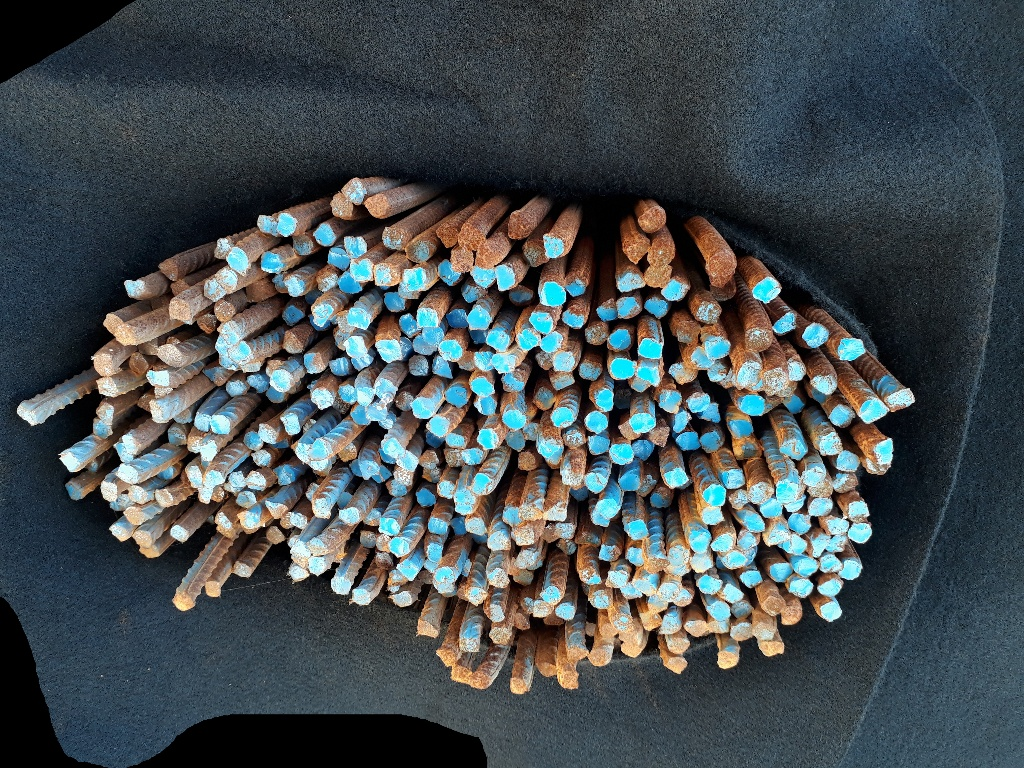dipstick: (764, 367, 794, 397), (736, 361, 766, 391), (708, 258, 736, 288), (751, 276, 782, 303), (647, 237, 674, 267), (639, 206, 667, 234), (458, 223, 485, 252), (624, 234, 650, 264), (858, 400, 891, 423), (731, 437, 764, 460), (802, 322, 830, 349), (780, 438, 809, 464), (329, 191, 354, 221), (508, 210, 533, 240), (886, 388, 916, 413), (374, 338, 404, 363), (616, 269, 647, 293), (635, 358, 662, 385), (523, 239, 549, 267), (764, 518, 789, 547), (668, 360, 698, 384), (645, 263, 673, 288), (217, 321, 246, 345), (373, 264, 400, 289), (437, 337, 464, 362), (340, 177, 364, 205), (539, 281, 567, 305), (431, 567, 459, 591), (155, 343, 183, 367), (738, 394, 767, 417), (826, 404, 855, 427), (609, 358, 638, 381), (460, 282, 490, 304), (450, 247, 475, 273), (706, 336, 731, 362), (849, 520, 874, 546), (226, 247, 251, 273), (794, 556, 821, 580), (445, 383, 472, 407), (406, 240, 435, 262), (810, 373, 839, 395), (458, 584, 487, 606), (746, 326, 771, 351), (467, 305, 492, 330), (168, 297, 193, 322), (382, 226, 408, 250), (606, 329, 632, 353), (658, 390, 684, 414), (454, 489, 478, 515), (311, 303, 337, 327), (542, 233, 565, 260), (560, 308, 587, 331), (660, 280, 691, 300), (838, 339, 866, 361), (748, 482, 776, 504), (661, 466, 689, 488), (696, 575, 724, 597), (660, 606, 682, 634), (371, 378, 399, 400), (860, 456, 892, 475), (365, 193, 389, 218), (676, 320, 700, 345), (773, 311, 797, 336), (686, 390, 711, 414), (563, 426, 588, 450), (215, 268, 239, 293), (349, 259, 375, 282), (615, 296, 641, 319), (637, 337, 663, 360), (515, 328, 541, 351), (650, 483, 673, 509), (468, 376, 497, 396), (290, 539, 314, 563), (228, 341, 252, 365), (326, 246, 349, 271), (403, 269, 428, 292), (470, 265, 495, 288), (17, 402, 40, 427), (314, 266, 336, 292), (643, 298, 669, 320), (696, 301, 722, 323), (691, 344, 713, 370), (246, 280, 272, 302), (276, 212, 297, 239), (495, 264, 516, 291), (702, 484, 729, 505), (486, 529, 513, 550), (416, 308, 443, 329), (433, 648, 461, 668), (257, 213, 281, 236), (584, 322, 608, 345), (821, 432, 844, 456), (836, 449, 860, 472), (584, 411, 608, 434), (819, 600, 843, 623), (343, 336, 367, 359), (309, 437, 332, 461), (282, 303, 305, 327), (314, 223, 336, 248), (610, 444, 635, 466), (351, 348, 376, 370), (303, 352, 328, 374), (269, 370, 294, 392), (437, 223, 458, 249), (833, 472, 859, 493), (788, 578, 814, 599), (595, 499, 621, 520), (413, 333, 439, 354), (807, 479, 834, 499), (779, 534, 806, 554), (688, 553, 715, 573), (596, 298, 619, 321), (580, 358, 603, 381), (769, 560, 792, 583), (432, 355, 455, 378), (350, 404, 373, 427), (486, 329, 510, 351), (532, 387, 554, 411), (550, 406, 574, 428), (632, 437, 654, 461), (410, 397, 434, 419), (311, 388, 335, 410), (227, 342, 251, 364), (439, 260, 460, 285), (492, 352, 517, 373), (776, 480, 801, 501), (676, 429, 701, 450), (839, 559, 864, 580), (626, 519, 651, 540), (474, 395, 499, 416), (213, 300, 238, 321), (150, 398, 171, 423), (508, 284, 534, 304), (817, 578, 843, 598), (752, 622, 778, 642), (502, 410, 528, 430), (425, 416, 451, 436), (823, 517, 850, 536), (530, 312, 553, 334), (501, 370, 524, 392), (705, 361, 728, 383), (585, 472, 608, 494), (478, 428, 501, 450), (204, 279, 227, 301), (91, 353, 114, 375), (92, 418, 115, 440), (259, 252, 283, 273), (338, 273, 362, 294), (712, 532, 736, 553), (632, 576, 656, 597), (589, 589, 613, 610), (512, 525, 536, 546), (487, 567, 511, 588), (279, 412, 300, 436), (203, 367, 231, 385), (95, 377, 119, 398), (112, 441, 136, 462), (700, 402, 720, 427), (728, 419, 753, 439), (741, 512, 766, 532), (242, 431, 267, 451), (159, 257, 179, 282), (760, 498, 786, 517), (719, 584, 745, 603), (345, 236, 367, 258), (258, 421, 280, 443), (550, 369, 573, 390), (613, 388, 634, 411), (872, 438, 893, 461), (782, 602, 803, 625), (561, 466, 584, 487), (446, 307, 469, 328), (383, 291, 406, 312), (273, 465, 296, 486), (129, 353, 150, 376), (539, 332, 563, 352), (631, 413, 655, 433), (688, 533, 712, 553), (664, 656, 688, 676), (442, 447, 466, 467), (250, 448, 274, 468), (721, 551, 749, 568), (787, 514, 812, 533), (740, 570, 765, 589), (700, 506, 725, 525), (706, 601, 731, 620), (482, 603, 507, 622), (722, 468, 748, 486), (819, 555, 845, 573), (564, 275, 586, 296), (783, 393, 805, 414), (700, 431, 722, 452), (619, 419, 641, 440), (729, 489, 750, 511), (762, 595, 784, 616), (619, 471, 641, 492), (459, 634, 481, 655), (472, 472, 493, 494), (397, 449, 419, 470), (406, 355, 428, 376), (423, 326, 445, 347), (400, 314, 421, 336), (347, 308, 369, 329), (357, 460, 379, 481), (283, 330, 304, 352), (786, 358, 806, 381), (553, 352, 576, 372), (846, 499, 869, 519), (588, 436, 611, 456), (650, 426, 670, 449), (589, 509, 612, 529), (656, 582, 679, 602), (489, 624, 509, 647), (396, 560, 419, 580), (337, 507, 360, 527), (383, 439, 406, 459), (393, 391, 416, 411), (115, 324, 138, 344), (158, 461, 181, 481), (809, 533, 828, 557), (509, 676, 533, 695), (384, 479, 408, 498), (369, 464, 393, 483), (171, 593, 195, 612), (122, 280, 146, 299), (186, 465, 205, 489), (96, 401, 115, 425), (808, 498, 833, 516), (684, 619, 709, 637), (714, 650, 739, 668), (396, 283, 421, 301), (246, 375, 271, 393), (265, 385, 290, 403), (284, 276, 305, 297), (732, 621, 753, 642), (538, 438, 559, 459), (505, 431, 526, 452), (111, 522, 132, 543), (595, 389, 615, 411), (606, 569, 628, 589), (554, 602, 576, 622), (581, 567, 603, 587), (388, 537, 410, 557), (378, 516, 400, 536), (337, 443, 359, 463), (246, 470, 268, 490), (102, 314, 124, 334), (117, 464, 139, 484), (448, 664, 471, 683), (544, 503, 567, 522), (350, 587, 373, 606), (327, 357, 350, 376), (265, 500, 288, 519), (122, 434, 141, 457), (127, 485, 150, 504), (288, 565, 312, 583), (519, 505, 544, 522), (666, 545, 687, 565), (624, 546, 644, 567), (674, 588, 694, 609), (559, 670, 580, 690), (532, 599, 553, 619), (473, 350, 494, 370), (416, 488, 436, 509), (210, 414, 231, 434), (536, 349, 555, 371), (736, 531, 758, 550), (732, 601, 754, 620), (540, 522, 559, 544), (418, 450, 440, 469), (338, 384, 360, 403), (305, 537, 327, 556), (271, 271, 290, 293), (214, 238, 233, 260), (168, 423, 187, 445), (144, 369, 170, 385), (598, 543, 621, 561), (555, 537, 578, 555), (461, 447, 484, 465), (124, 507, 147, 525), (759, 641, 786, 656), (469, 671, 489, 691), (575, 531, 600, 547), (196, 313, 216, 333), (170, 525, 190, 545), (672, 412, 691, 433), (641, 612, 662, 631), (331, 578, 352, 597), (394, 465, 413, 486), (60, 452, 81, 471), (804, 468, 826, 486), (512, 570, 534, 588), (235, 491, 257, 509), (667, 638, 690, 655), (536, 661, 559, 678), (426, 517, 449, 534), (388, 592, 414, 607), (829, 534, 849, 553), (465, 515, 485, 534), (517, 452, 537, 471), (363, 508, 383, 527), (417, 619, 438, 637), (307, 558, 328, 576), (186, 432, 204, 453), (639, 475, 656, 497), (590, 650, 612, 667), (515, 550, 534, 569), (100, 481, 119, 500), (621, 640, 641, 658), (540, 587, 560, 605), (502, 506, 520, 526), (449, 517, 467, 537), (444, 433, 468, 448), (436, 480, 454, 500), (355, 386, 375, 404), (239, 510, 259, 528), (214, 512, 234, 530), (554, 521, 575, 538), (647, 596, 669, 612), (200, 440, 216, 462), (376, 552, 395, 570), (229, 470, 248, 488), (226, 380, 245, 398), (133, 530, 152, 548), (645, 558, 666, 574), (468, 328, 489, 344), (365, 402, 386, 418), (202, 470, 223, 486), (567, 646, 589, 661), (232, 561, 250, 579), (359, 531, 378, 548), (422, 467, 442, 483), (109, 495, 129, 511), (613, 617, 635, 631), (267, 526, 284, 544), (66, 482, 83, 500), (514, 612, 530, 631), (427, 543, 443, 562), (289, 512, 308, 528), (523, 422, 538, 442), (194, 412, 209, 432), (600, 621, 617, 638), (206, 581, 223, 598), (153, 489, 169, 507), (520, 596, 535, 615), (425, 436, 445, 450), (348, 459, 363, 477), (170, 281, 189, 295), (400, 335, 413, 355), (140, 546, 160, 559), (375, 534, 390, 551), (313, 503, 330, 518), (154, 383, 174, 395), (265, 359, 282, 373), (174, 411, 192, 424), (377, 416, 393, 427)
